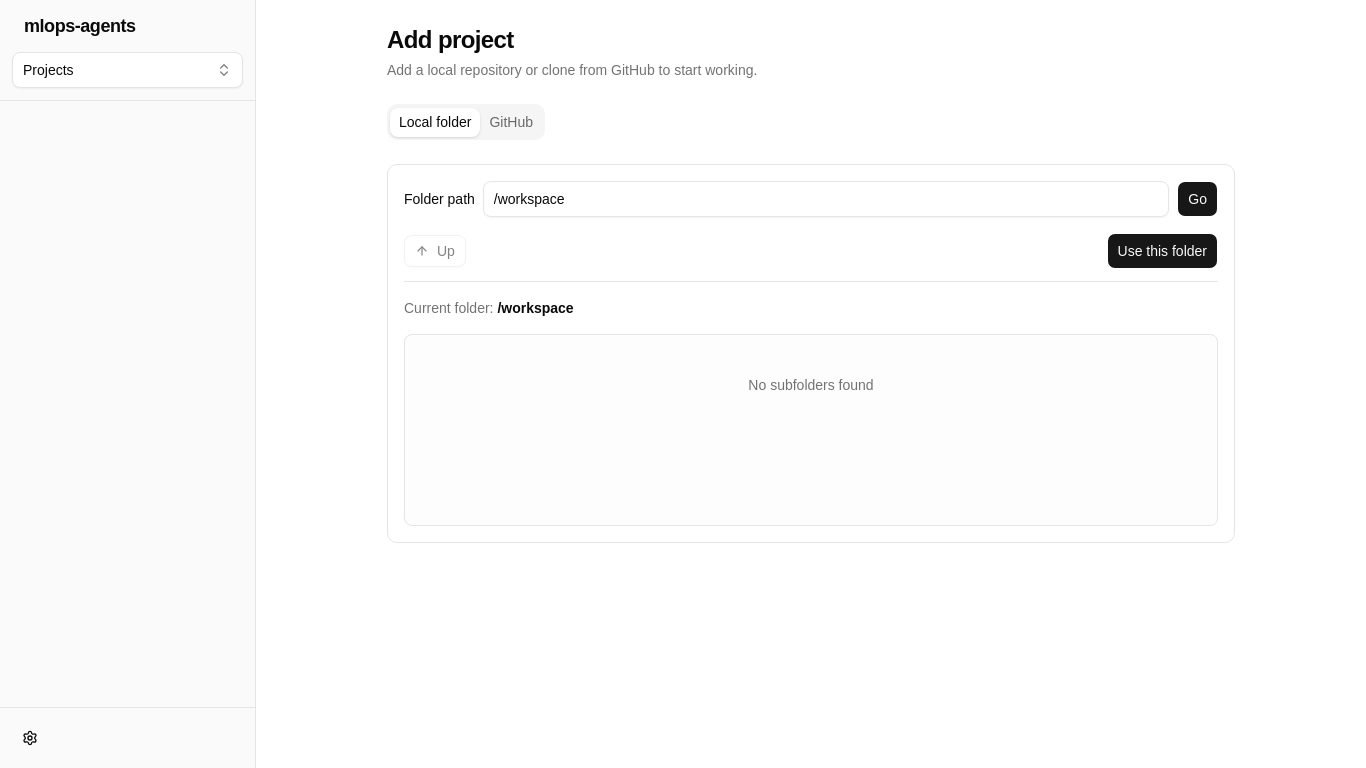
Test: AddProjectPage › GitHub not connected shows only the link to Integrations
Click the tab "GitHub" at (511, 122), box [480, 108, 542, 136]
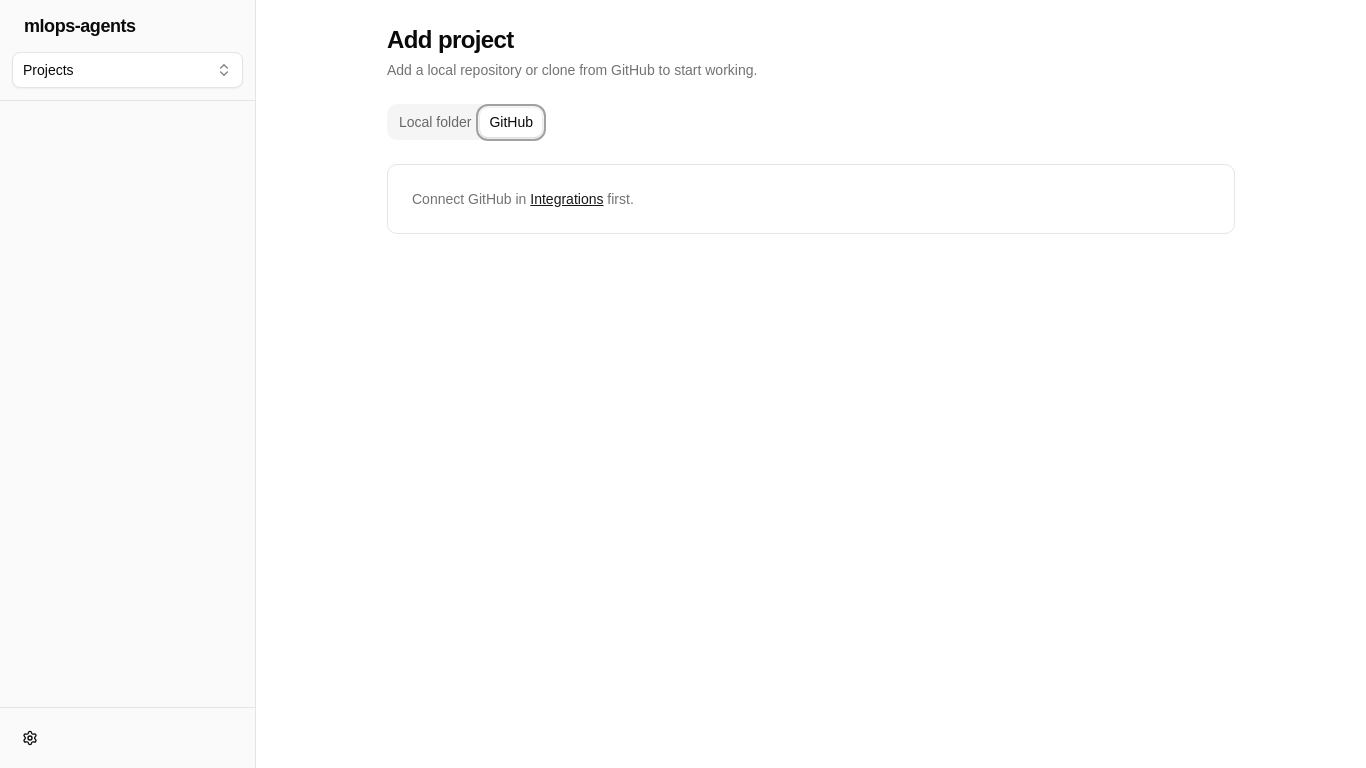
Expected: the element showing "Connect GitHub in Integrations first." is shown, [412, 191, 634, 207]
